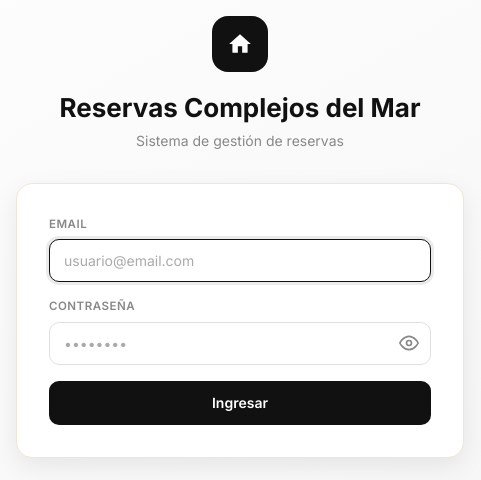
it: Login.jsx — toggle de mostrar/ocultar contraseña › clickear el toggle la muestra (type="text") y cambia el aria-label a "Ocultar contraseña"
Type "mi-clave-secreta" into the password field with placeholder "••••••••" at (240, 343), box [49,322,431,364]
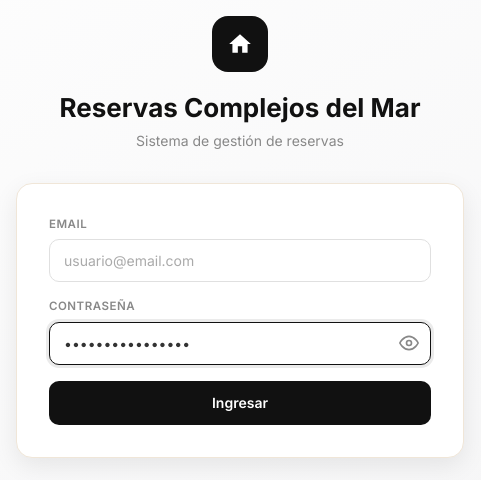
Click the button named "Mostrar contraseña" at (409, 343), box [399,333,419,353]
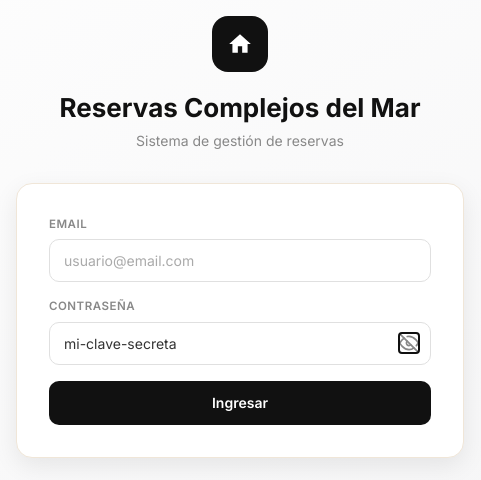
Expected: the field with placeholder "••••••••" shows its text, [49,322,431,364]
Expected: the button named "Ocultar contraseña" is shown, [399,333,419,353]
